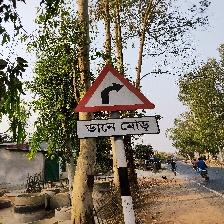Right-turn: (74, 63, 158, 139)
